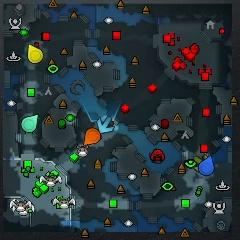p1: (198, 156, 215, 176)
p2: (22, 115, 38, 132)
p4: (28, 45, 43, 63)
p5: (83, 128, 101, 145)
x2: (194, 155, 207, 171)
x3: (97, 117, 114, 134)
